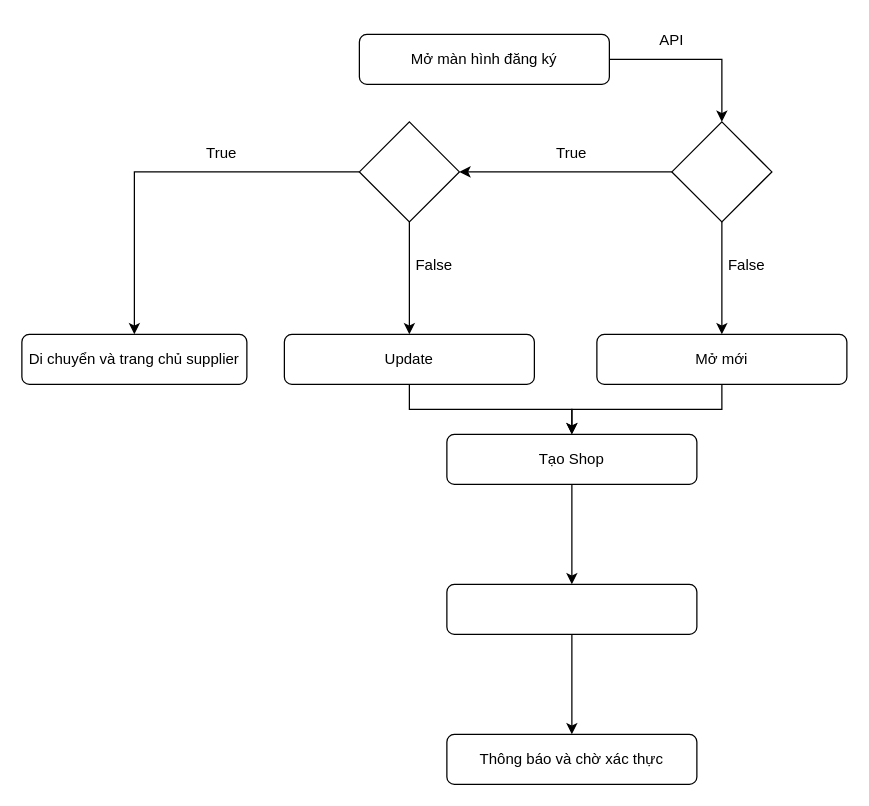
The diagram is 869 pixels wide and 806 high, and some of its shapes have lost their labels. Each missing label, with the centre of its shape:
"Liên kết tài khoản" goes at [571,608].
"Lấy thông tin" goes at [721,171].
"Xác thực" goes at [408,171].
